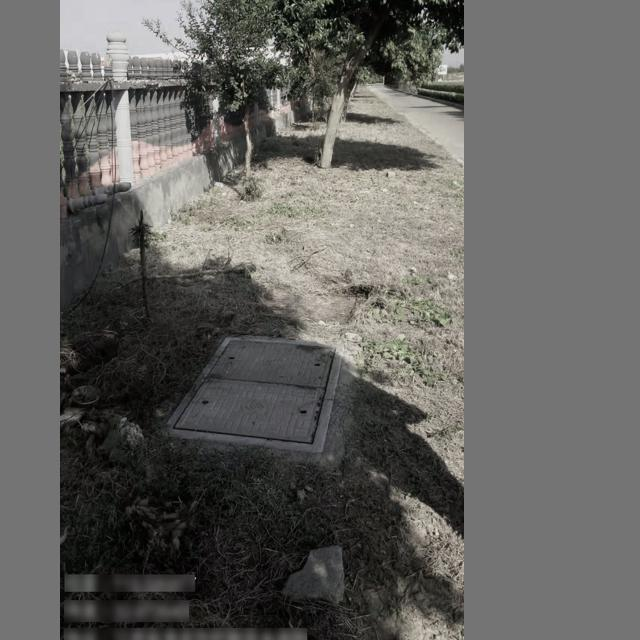good: (165, 336, 345, 452)
